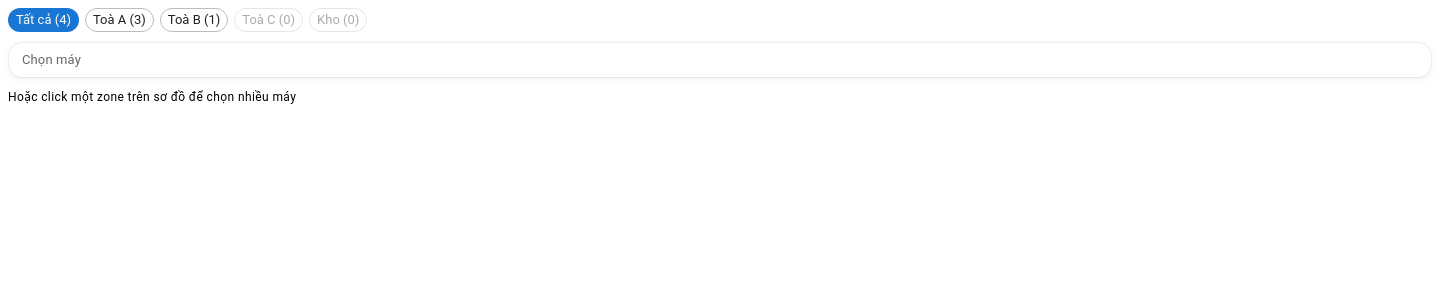
Test case: MachinePicker › search matches all words (AND), ignoring case and accents, and highlights matches
Press the mouse on the dropdown labelled "Chọn máy" at (718, 60), box [14,51,1423,69]
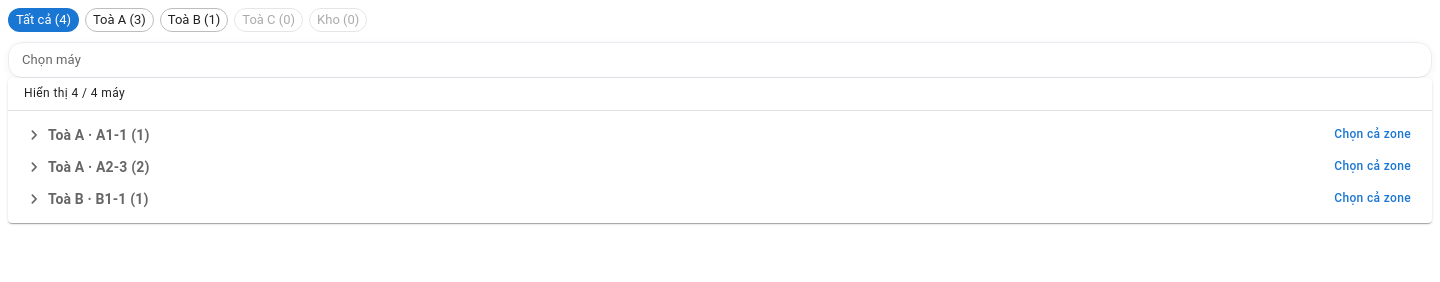
Type "may TIEN" into the dropdown labelled "Chọn máy" at (718, 60), box [14,51,1423,69]
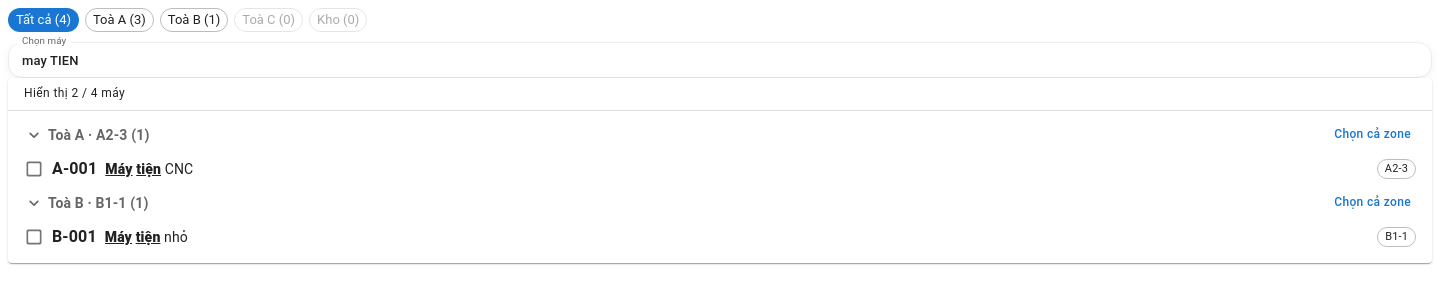
Replace the text in the dropdown labelled "Chọn máy" with "tien a2-3" at (704, 60), box [14,51,1393,69]
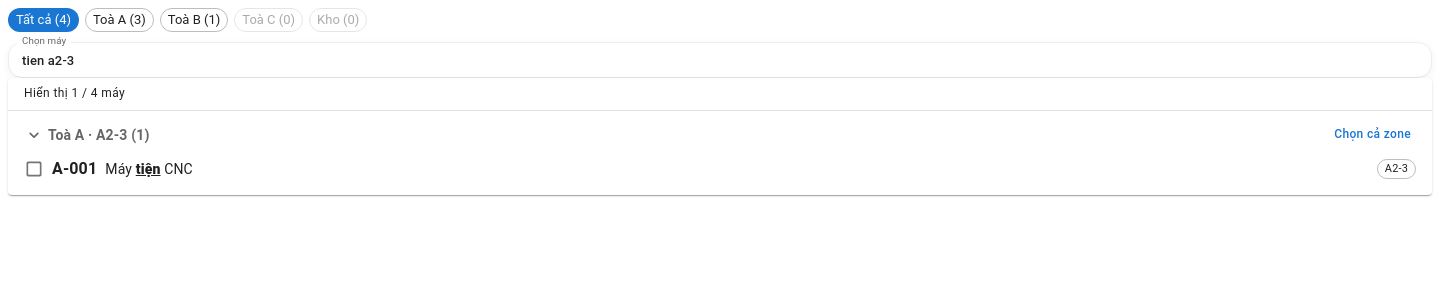
Result: the text with test id "picker-count" reads "Hiển thị 1 / 4 máy" at [24,86,125,100]
